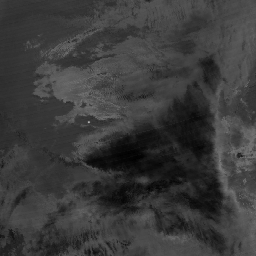Target: (86, 119, 92, 125)
